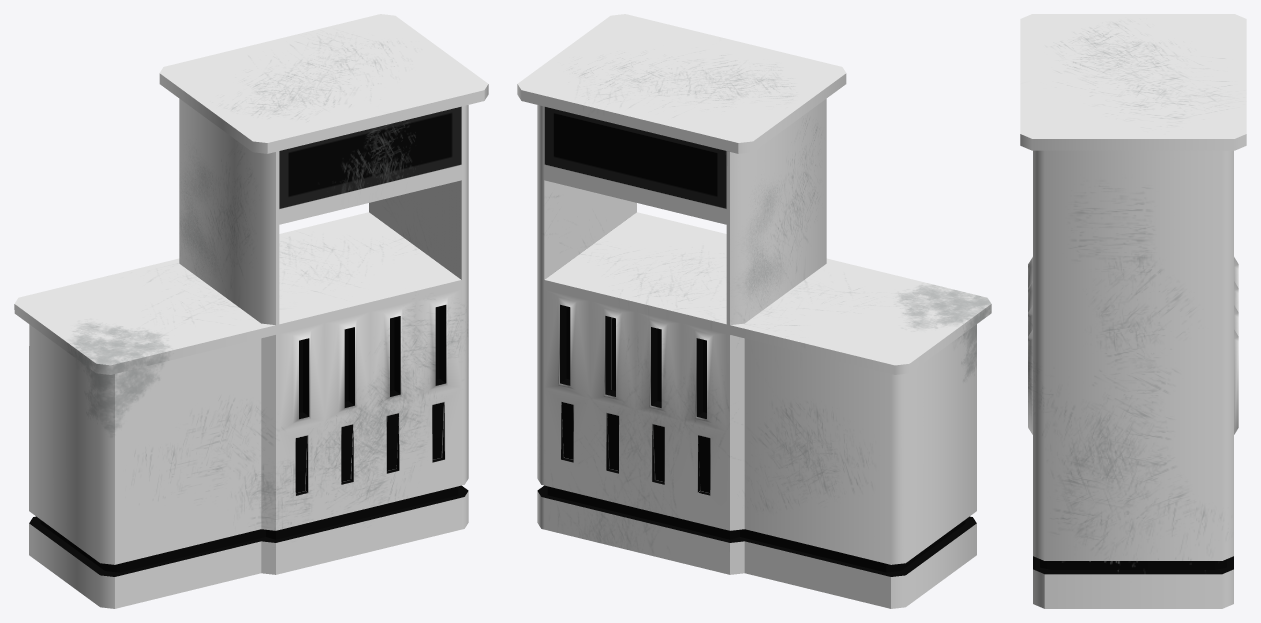
File: Pump.fbx
3 views of the same model, side by side, from view 1: azimuth 30°, elevation 25°; view 2: azimuth 150°, elevation 25°; view 3: azimuth 270°, elevation 25° (orthographic). The views are drawn at different scales.
Parts seen in each view (by area): view 1: Pump015; view 2: Pump015; view 3: Pump015.
Part boxes in pixels (<box>): Pump015: <box>14,14,488,608</box>; Pump015: <box>517,14,991,608</box>; Pump015: <box>1020,14,1246,608</box>.
Bounding box in the file's own units: 1863 × 868 × 2024.
1 material, 1 textured.
